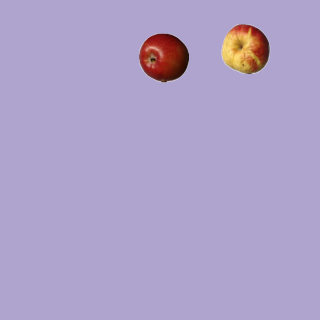Apple Braeburn: (138, 32, 188, 82)
Apple Red Yellow 1: (220, 23, 270, 73)
